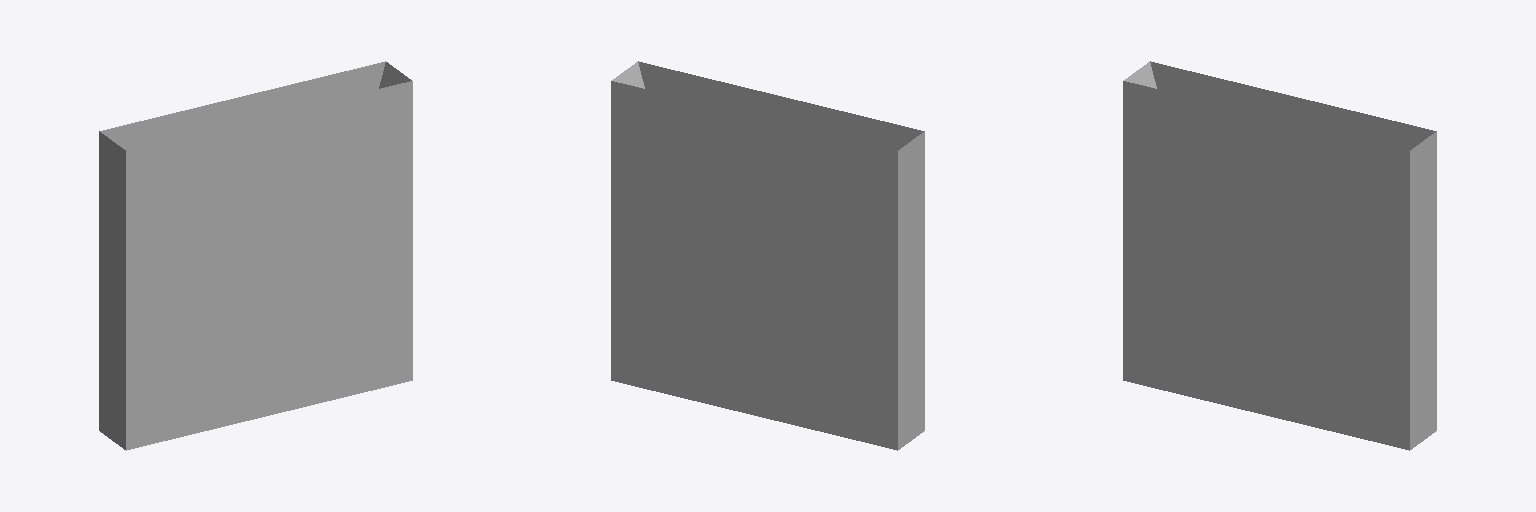
Rendered from Trou.obj.
The picture shows the model from 3 angles: view 1: azimuth 30°, elevation 25°; view 2: azimuth 150°, elevation 25°; view 3: azimuth 330°, elevation 25°; orthographic projection.
Visible parts, largest first — view 1: Cube; view 2: Cube; view 3: Cube.
Boxes of the visible parts, box(x1,y1,x2,y2) form: Cube: box(99, 61, 412, 450); Cube: box(611, 61, 924, 450); Cube: box(1123, 61, 1436, 450).
Size of the model in its own units: 38.42 by 38.42 by 6.16.